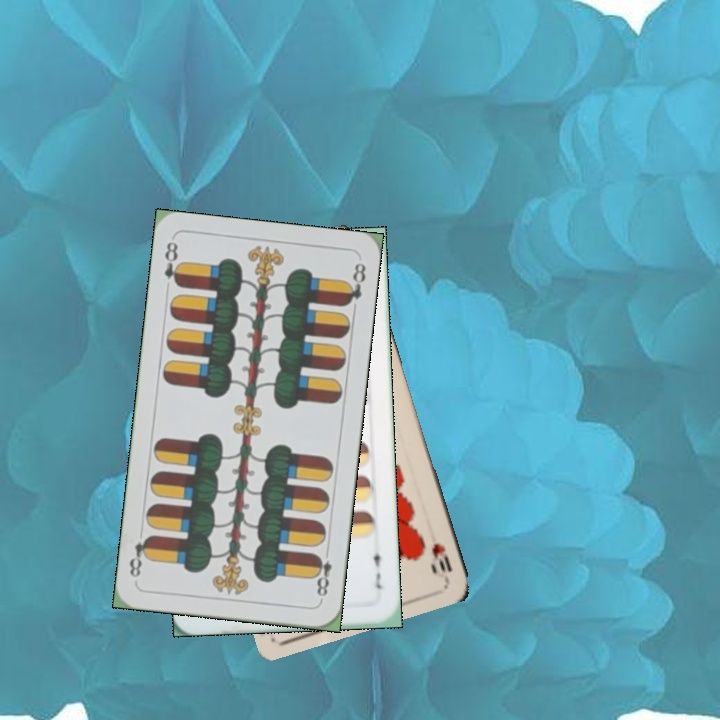E7: (369, 542, 385, 592)
E8: (310, 544, 334, 603), (160, 237, 185, 289)
H10: (427, 539, 455, 575)
